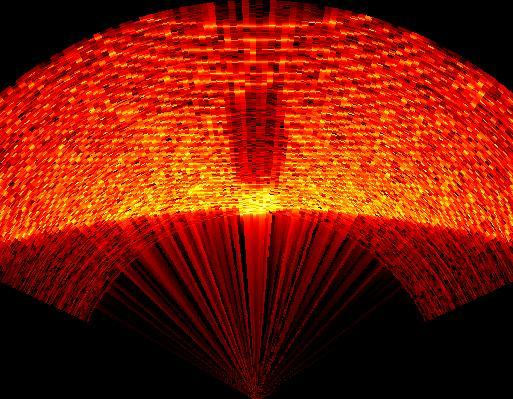box_crate: (223, 82, 295, 214)
